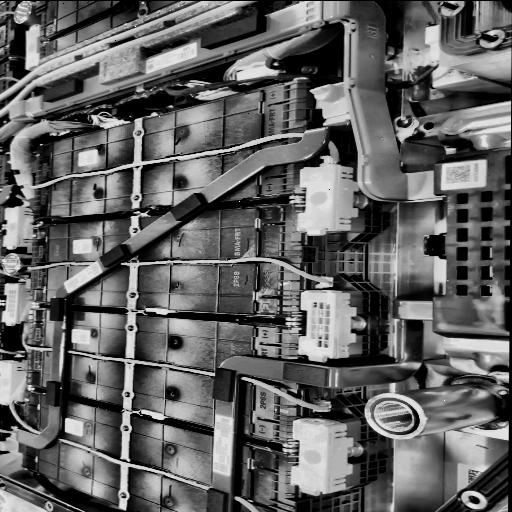busbar: (13, 127, 343, 448), (10, 0, 440, 204), (209, 297, 436, 512)
high_volt_cable: (0, 0, 268, 118), (6, 404, 275, 512), (19, 327, 337, 414), (20, 129, 346, 190), (13, 250, 342, 288), (112, 489, 130, 499)
low_volt_cable: (42, 71, 334, 122), (23, 186, 301, 232)
nut: (123, 322, 139, 332), (118, 424, 134, 432), (126, 289, 140, 298), (131, 128, 146, 136), (122, 388, 133, 398), (130, 193, 142, 202)
